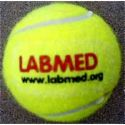tennis ball: (1, 1, 125, 125)
